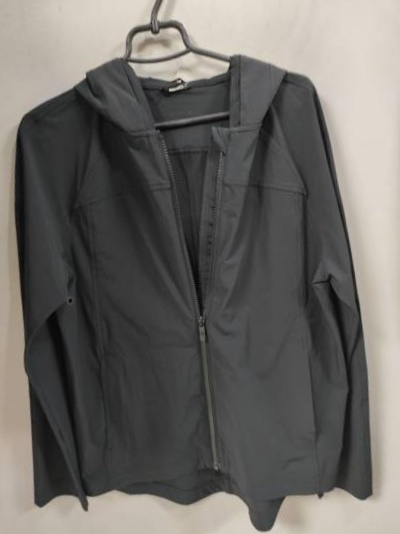Hoodie: (0, 16, 400, 534), (357, 0, 400, 519), (0, 63, 4, 534)
